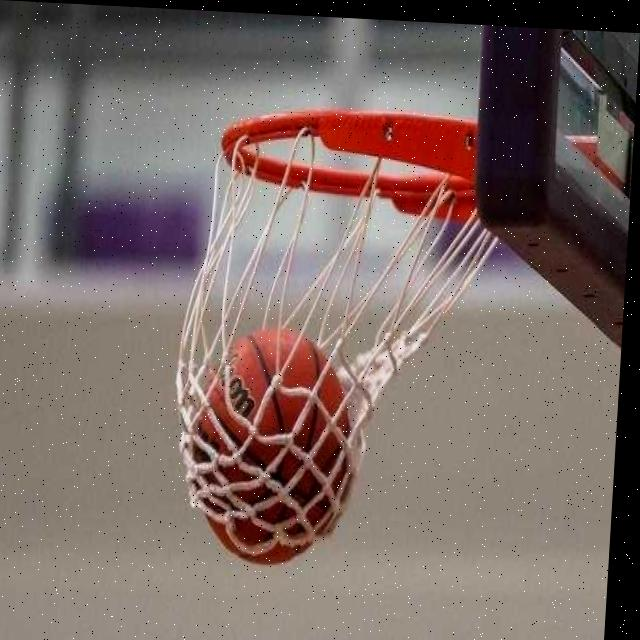basketball: (181, 321, 364, 576)
hoop: (163, 97, 517, 583), (166, 97, 516, 570)
